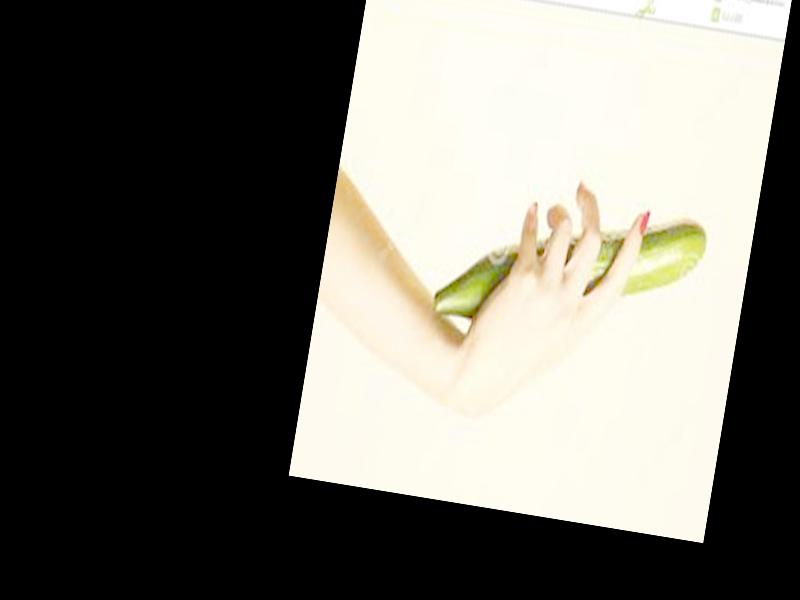Cucumber: (428, 179, 709, 354)
